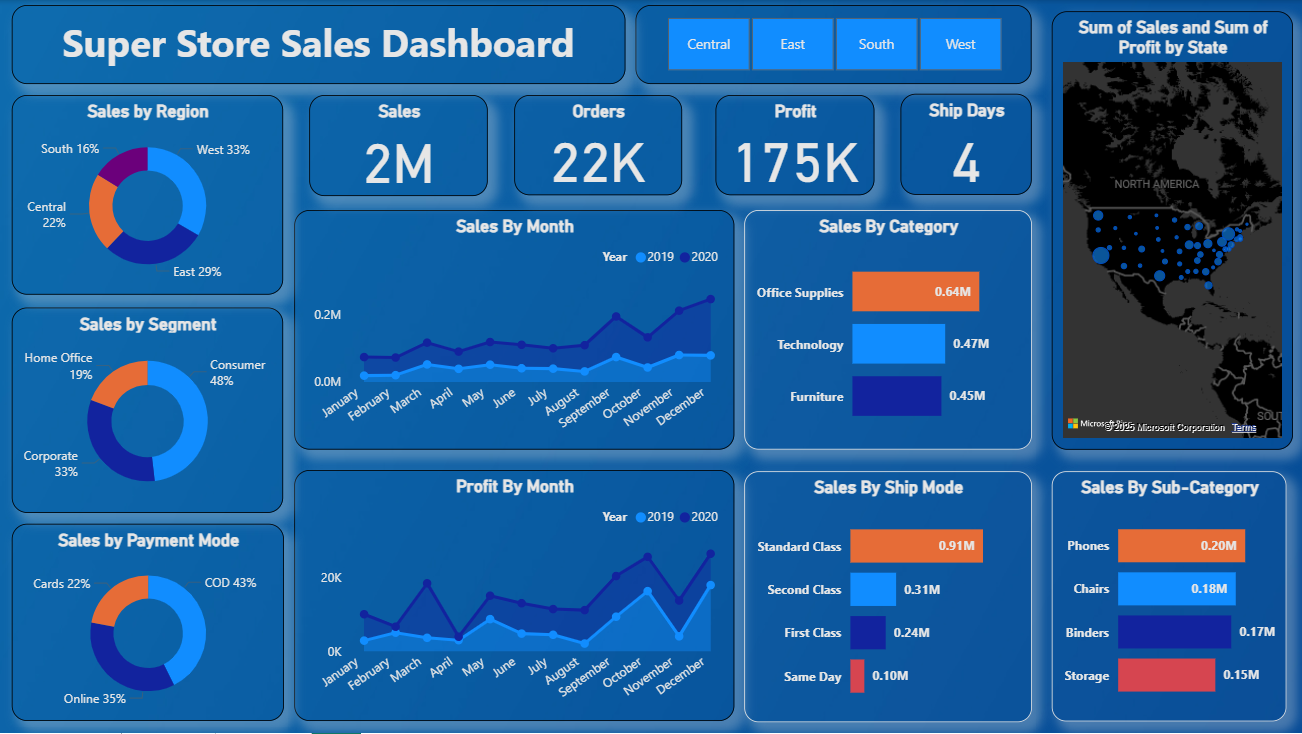

The page's visual inventory and layout, read from the dashboard file:
{"tool":"powerbi","page":{"name":"Page 1","canvas":[1280,720],"ordinal":0},"visuals":[{"type":"clusteredBarChart","title":"Sales By Category","fields":{"Category":["SuperStore_Sales_Dataset.Category"],"Y":["Sum(SuperStore_Sales_Dataset.Sales)"]},"box":[732.5,206.1,282.2,235.6],"z":0},{"type":"clusteredBarChart","title":"Sales By Sub-Category","fields":{"Category":["SuperStore_Sales_Dataset.Sub-Category"],"Y":["Sum(SuperStore_Sales_Dataset.Sales)"]},"box":[1034.4,462.6,230.7,245.4],"z":1000},{"type":"clusteredBarChart","title":"Sales By Ship Mode","fields":{"Category":["SuperStore_Sales_Dataset.Ship Mode"],"Y":["Sum(SuperStore_Sales_Dataset.Sales)"]},"box":[732.5,462.6,282.2,246.6],"z":2000},{"type":"stackedAreaChart","title":"Sales By Month","fields":{"Category":["SuperStore_Sales_Dataset.Order Date.Variation.Date Hierarchy.Month"],"Series":["SuperStore_Sales_Dataset.Order Date.Variation.Date Hierarchy.Year"],"Y":["Sum(SuperStore_Sales_Dataset.Sales)"]},"box":[290.8,206.1,431.9,235.6],"z":3000},{"type":"stackedAreaChart","title":"Profit By Month","fields":{"Category":["SuperStore_Sales_Dataset.Order Date.Variation.Date Hierarchy.Month"],"Series":["SuperStore_Sales_Dataset.Order Date.Variation.Date Hierarchy.Year"],"Y":["Sum(SuperStore_Sales_Dataset.Profit)"]},"box":[290.8,461.4,431.9,246.6],"z":4000},{"type":"map","fields":{"Category":["SuperStore_Sales_Dataset.State"],"Size":["Sum(SuperStore_Sales_Dataset.Sales)"]},"box":[1034.4,11,236.8,430.7],"z":5000},{"type":"donutChart","title":"Sales by Segment","fields":{"Category":["SuperStore_Sales_Dataset.Segment"],"Y":["Sum(SuperStore_Sales_Dataset.Sales)"]},"box":[13.7,301.9,266.2,201.7],"z":6000},{"type":"donutChart","title":"Sales by Payment Mode","fields":{"Category":["SuperStore_Sales_Dataset.Payment Mode"],"Y":["Sum(SuperStore_Sales_Dataset.Sales)"]},"box":[13.5,514.1,267.5,193.9],"z":7000},{"type":"slicer","fields":{"Values":["SuperStore_Sales_Dataset.Region"]},"box":[625.8,4.9,389,77.3],"z":8000},{"type":"textbox","box":[13.5,4.9,602.5,77.3],"z":9000},{"type":"card","title":"Sales","fields":{"Values":["Sum(SuperStore_Sales_Dataset.Sales)"]},"box":[305.5,93.3,175.5,99.4],"z":10000},{"type":"card","title":"Orders","fields":{"Values":["Sum(SuperStore_Sales_Dataset.Quantity)"]},"box":[506.8,93.3,164.4,98.2],"z":11000},{"type":"card","title":"Profit","fields":{"Values":["Sum(SuperStore_Sales_Dataset.Profit)"]},"box":[704.3,93.3,155.8,98.2],"z":12000},{"type":"card","title":"Ship Days","fields":{"Values":["Avg(SuperStore_Sales_Dataset.AvgDeliver)"]},"box":[885.9,92,128.8,99.4],"z":13000},{"type":"donutChart","title":"Sales by Region","fields":{"Category":["SuperStore_Sales_Dataset.Region"],"Y":["Sum(SuperStore_Sales_Dataset.Sales)"]},"box":[13.7,93.3,266.2,196.2],"z":14000}]}

Visuals, with their boxes in screenshot pixels (x1, y1, x2, y2), scaled from the page's 1280x720 canvas onto the 1302x734 screenshot:
"Sales By Category" clusteredBarChart: select_region(745, 210, 1032, 450)
"Sales By Sub-Category" clusteredBarChart: select_region(1052, 472, 1287, 722)
"Sales By Ship Mode" clusteredBarChart: select_region(745, 472, 1032, 723)
"Sales By Month" stackedAreaChart: select_region(296, 210, 735, 450)
"Profit By Month" stackedAreaChart: select_region(296, 470, 735, 722)
map - SuperStore_Sales_Dataset.State x Sum(SuperStore_Sales_Dataset.Sales): select_region(1052, 11, 1293, 450)
"Sales by Segment" donutChart: select_region(14, 308, 285, 513)
"Sales by Payment Mode" donutChart: select_region(14, 524, 286, 722)
slicer - SuperStore_Sales_Dataset.Region: select_region(637, 5, 1032, 84)
textbox: select_region(14, 5, 627, 84)
"Sales" card: select_region(311, 95, 489, 196)
"Orders" card: select_region(516, 95, 683, 195)
"Profit" card: select_region(716, 95, 875, 195)
"Ship Days" card: select_region(901, 94, 1032, 195)
"Sales by Region" donutChart: select_region(14, 95, 285, 295)
